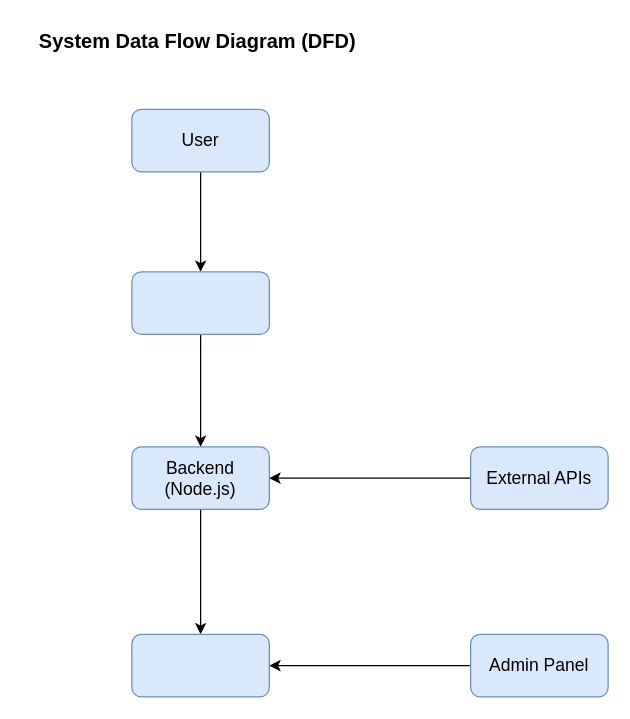
This 630x719 diagram has some shape labels left out. The centre of each missing label's shape, as x and y in pixels:
"Database (MongoDB)" goes at [200,665].
"Frontend (React)" goes at [200,302].
